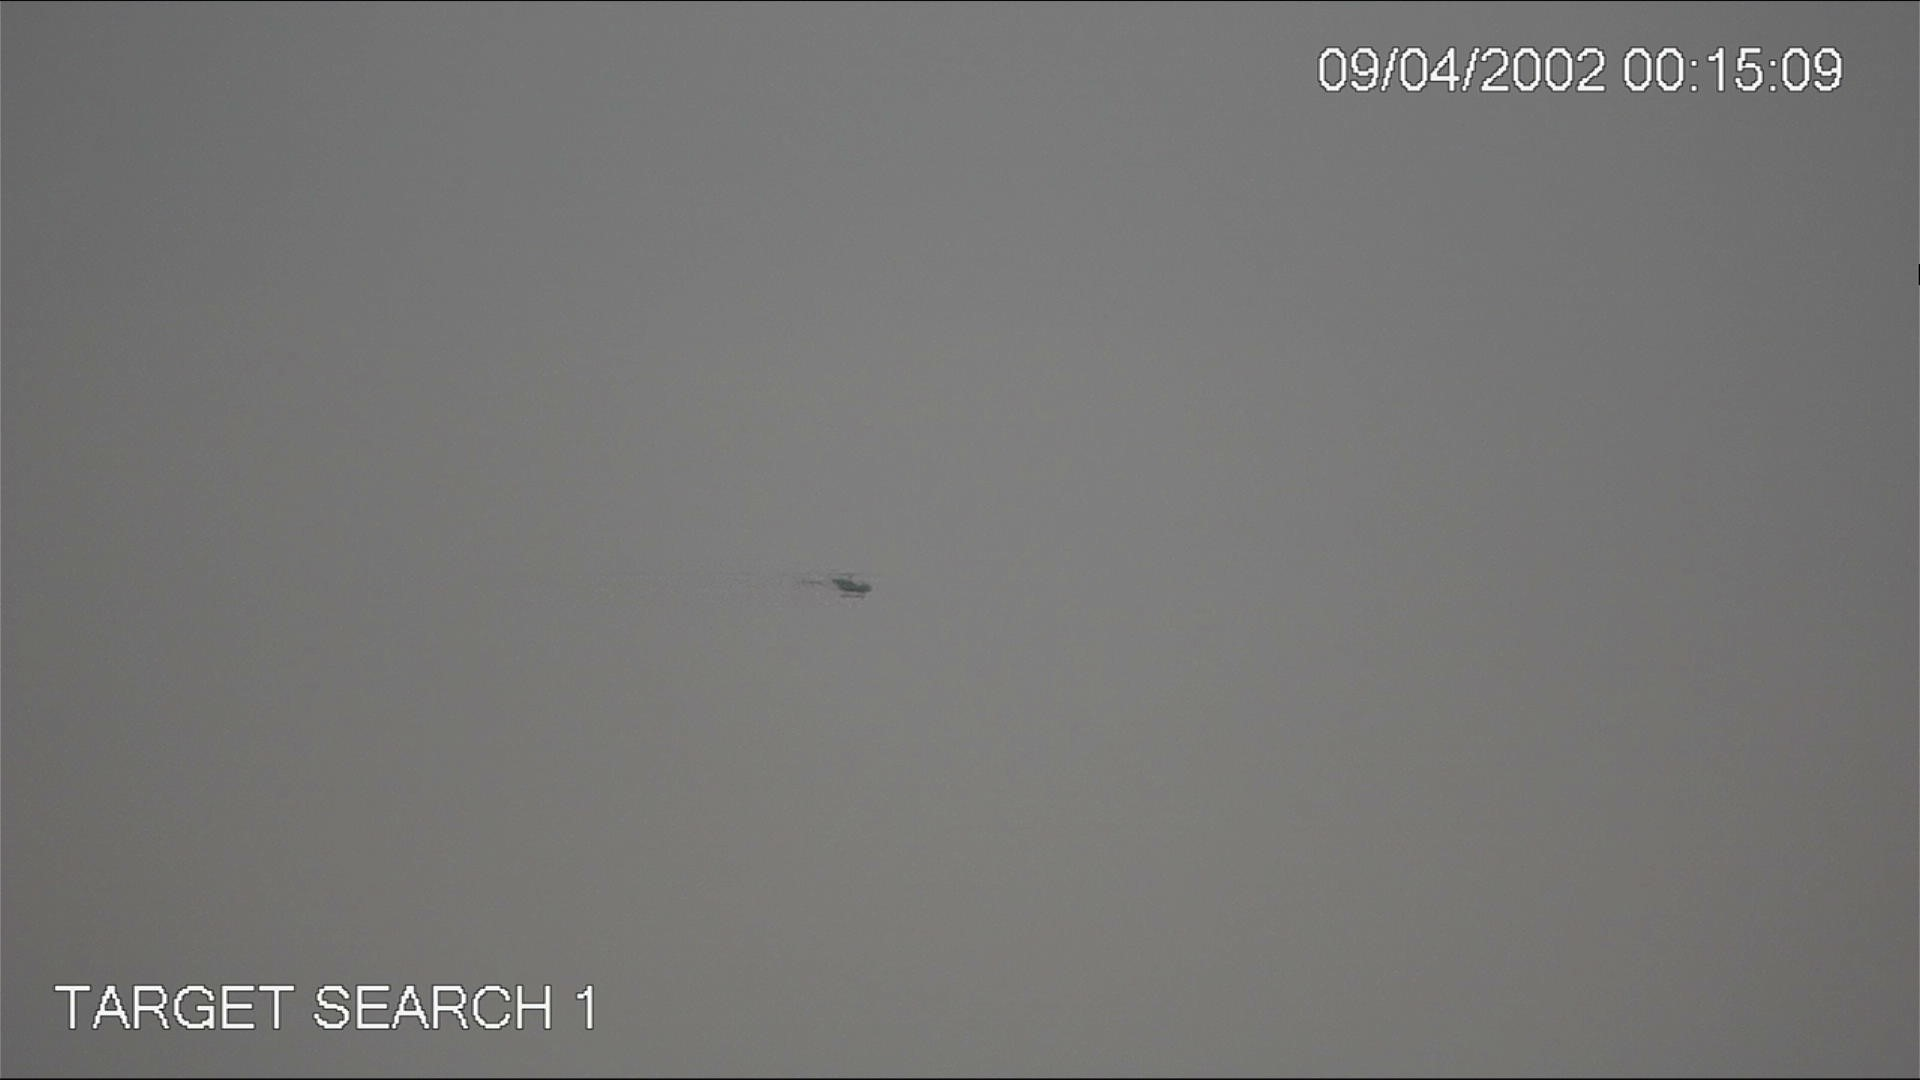SU_30: (793, 564, 880, 603)
